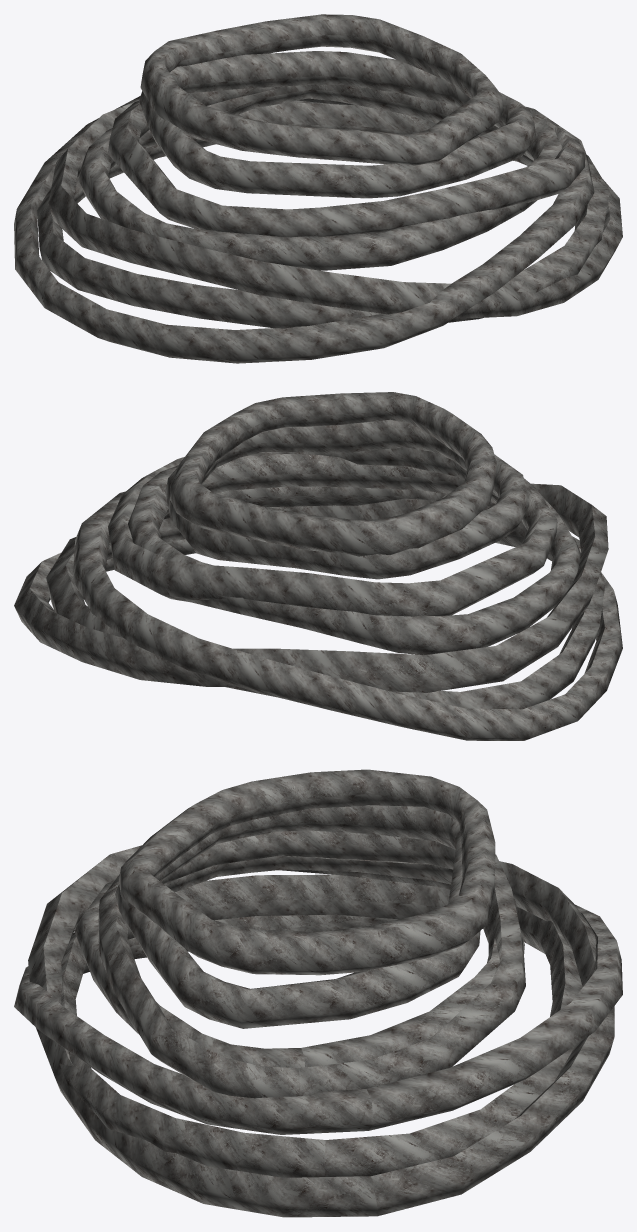
The model's file is HORSE_P_Rope.FBX.
The picture shows the model from 3 angles, top to bottom: view 1: azimuth 30°, elevation 25°; view 2: azimuth 150°, elevation 25°; view 3: azimuth 270°, elevation 25°; orthographic projection. The views are drawn at different scales.
Parts seen in each view (by area): view 1: HORSE_P_Rope; view 2: HORSE_P_Rope; view 3: HORSE_P_Rope.
Boxes of the visible parts, x1,y1,x2,y2 form: HORSE_P_Rope: (14,14,622,363); HORSE_P_Rope: (14,392,622,740); HORSE_P_Rope: (14,769,622,1217).
Bounding box in the file's own units: 309 × 111 × 266.
